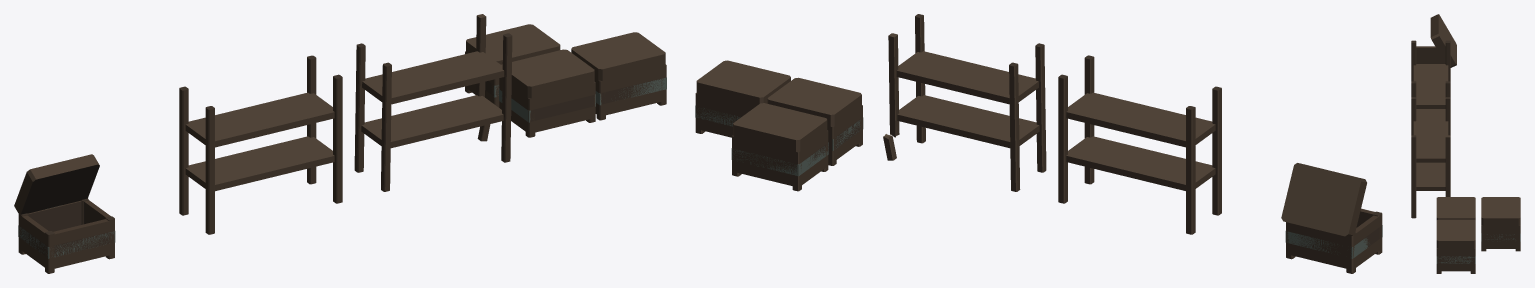
Rendered from d04_abandoned_storage_kit.glb.
3 renders of one model, left to right at view 1: azimuth 30°, elevation 25°; view 2: azimuth 150°, elevation 25°; view 3: azimuth 270°, elevation 25°, orthographic. The views are drawn at different scales.
Visible parts, largest first — view 1: D04_OpenChest_HollowBody, D04_IntactRack_SingleShelfPlane_Tier1, D04_IntactRack_SingleShelfPlane_Tier2, D04_BrokenRack_SingleShelfPlane_Tier2, D04_BrokenRack_SingleShelfPlane_Tier1, D04_OpenChest_FittedLid, D04_Cluster1_FittedLid, D04_ClosedChest_FittedLid, D04_ClosedChest_HollowBody, D04_Cluster1_HollowBody, D04_Cluster2_FittedLid, D04_IntactRack_Post_West_Front (+10 smaller); view 2: D04_OpenChest_FittedLid, D04_IntactRack_SingleShelfPlane_Tier1, D04_IntactRack_SingleShelfPlane_Tier2, D04_BrokenRack_SingleShelfPlane_Tier2, D04_BrokenRack_SingleShelfPlane_Tier1, D04_Cluster2_FittedLid, D04_OpenChest_HollowBody, D04_Cluster1_FittedLid, D04_Cluster2_HollowBody, D04_ClosedChest_FittedLid, D04_Cluster1_HollowBody, D04_IntactRack_Post_West_Back (+10 smaller); view 3: D04_IntactRack_SingleShelfPlane_Tier2, D04_BrokenRack_SingleShelfPlane_Tier2, D04_Cluster2_FittedLid, D04_Cluster1_FittedLid, D04_ClosedChest_FittedLid, D04_BrokenRack_SingleShelfPlane_Tier1, D04_OpenChest_FittedLid, D04_Cluster2_HollowBody, D04_Cluster1_HollowBody, D04_BrokenRack_Post_East_Front, D04_OpenChest_HollowBody, D04_BrokenRack_Post_East_Back_Upper (+12 smaller).
Part boxes in pixels (x1,y1,x2,y2): D04_OpenChest_HollowBody: (19,200,113,268); D04_IntactRack_SingleShelfPlane_Tier1: (185,136,334,191); D04_IntactRack_SingleShelfPlane_Tier2: (185,92,334,147); D04_BrokenRack_SingleShelfPlane_Tier2: (362,51,504,104); D04_BrokenRack_SingleShelfPlane_Tier1: (361,95,503,148); D04_OpenChest_FittedLid: (14,154,99,214); D04_Cluster1_FittedLid: (571,32,665,80); D04_ClosedChest_FittedLid: (500,49,594,98); D04_ClosedChest_HollowBody: (500,80,594,133); D04_Cluster1_HollowBody: (594,67,665,116); D04_Cluster2_FittedLid: (466,24,560,64); D04_IntactRack_Post_West_Front: (205,106,214,234); D04_OpenChest_FittedLid: (1281,163,1366,237); D04_IntactRack_SingleShelfPlane_Tier1: (1066,136,1215,190); D04_IntactRack_SingleShelfPlane_Tier2: (1066,92,1215,147); D04_BrokenRack_SingleShelfPlane_Tier2: (896,51,1038,104); D04_BrokenRack_SingleShelfPlane_Tier1: (897,95,1039,148); D04_Cluster2_FittedLid: (733,103,827,152); D04_OpenChest_HollowBody: (1288,208,1381,269); D04_Cluster1_FittedLid: (696,60,790,108); D04_Cluster2_HollowBody: (733,134,827,186); D04_ClosedChest_FittedLid: (767,77,861,126); D04_Cluster1_HollowBody: (697,95,752,137); D04_IntactRack_Post_West_Back: (1186,106,1195,234); D04_IntactRack_SingleShelfPlane_Tier2: (1413,64,1448,108); D04_BrokenRack_SingleShelfPlane_Tier2: (1413,120,1448,162); D04_Cluster2_FittedLid: (1481,197,1520,226); D04_Cluster1_FittedLid: (1436,219,1475,248); D04_ClosedChest_FittedLid: (1436,197,1475,219); D04_BrokenRack_SingleShelfPlane_Tier1: (1416,162,1445,190); D04_OpenChest_FittedLid: (1430,14,1456,67); D04_Cluster2_HollowBody: (1483,226,1519,248); D04_Cluster1_HollowBody: (1438,249,1474,271); D04_BrokenRack_Post_East_Front: (1411,135,1416,218); D04_OpenChest_HollowBody: (1416,46,1445,63); D04_BrokenRack_Post_East_Back_Upper: (1445,135,1450,196).
Size of the model in its own units: 8.55 by 1.6 by 1.95.
